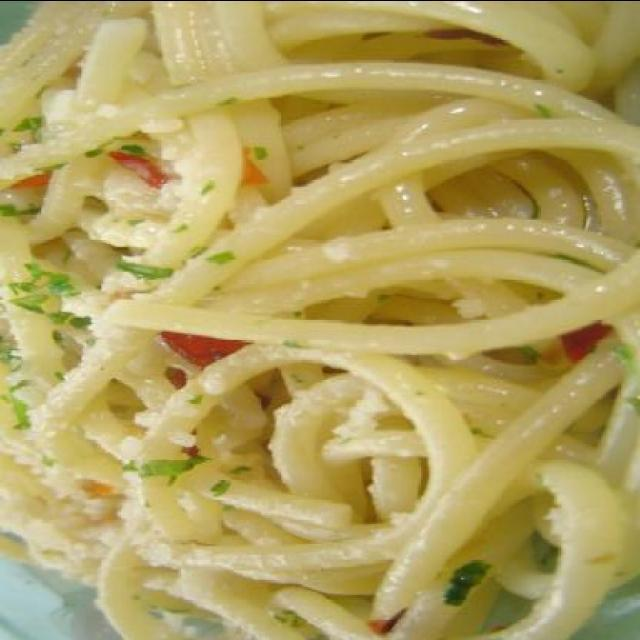Oil pasta: (44, 1, 638, 605)
